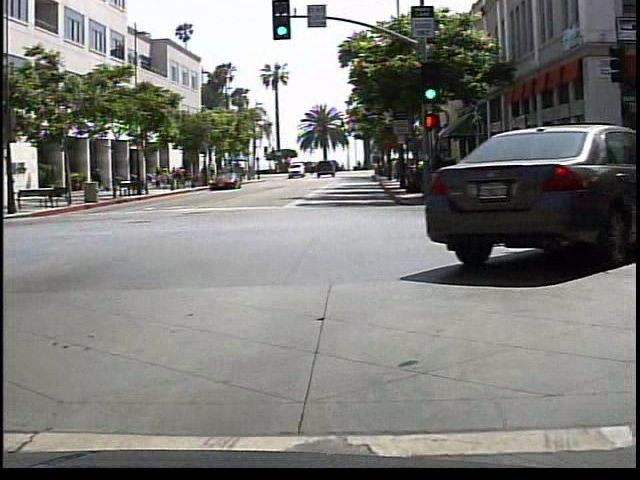person: (88, 160, 106, 193)
